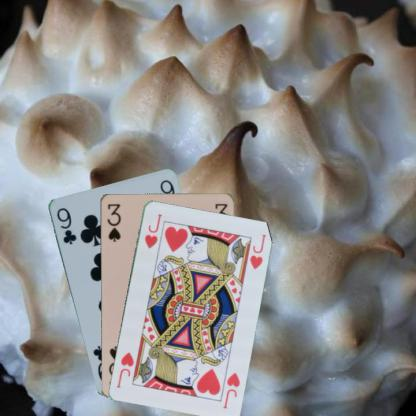3s: (104, 201, 122, 243)
9c: (54, 204, 77, 245)
Jh: (141, 211, 163, 249), (221, 369, 241, 410)
